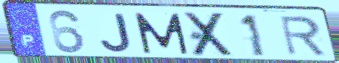1: (238, 13, 268, 57)
6: (48, 9, 87, 55)
J: (99, 12, 135, 54)
M: (132, 12, 192, 56)
R: (277, 14, 329, 57)
X: (183, 11, 237, 58)
